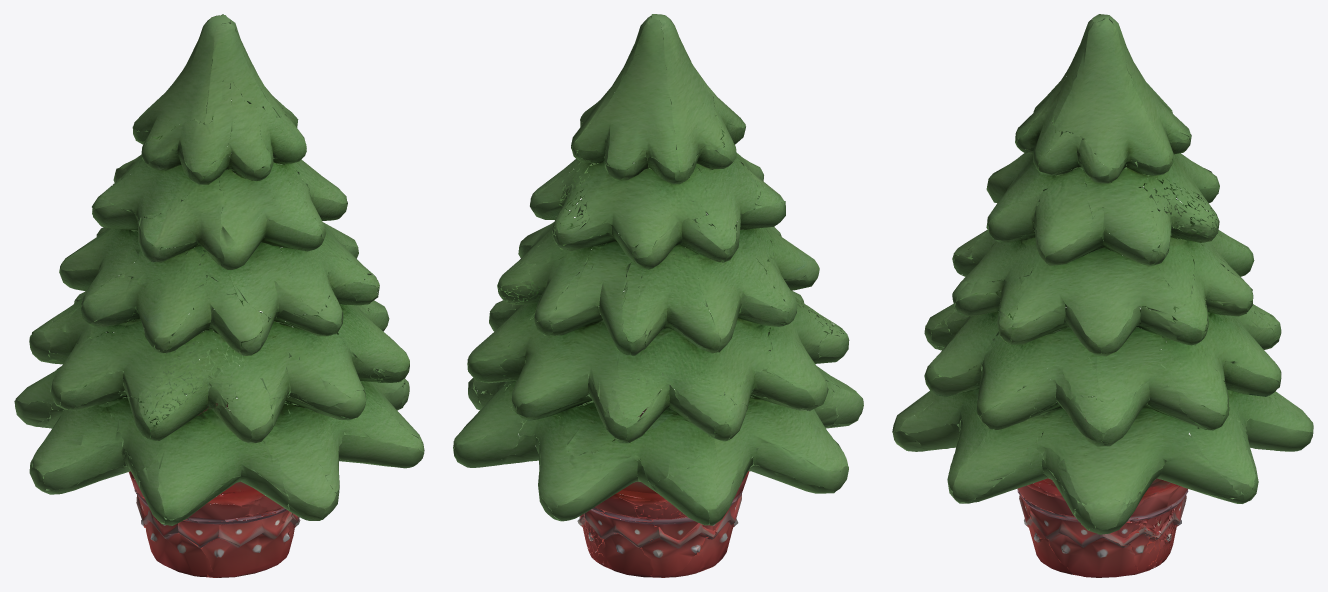
The model's file is ChristmasTree.fbx.
3 renders of one model, left to right at view 1: azimuth 30°, elevation 25°; view 2: azimuth 150°, elevation 25°; view 3: azimuth 270°, elevation 25°, orthographic.
Visible parts, largest first — view 1: ChristmasTree; view 2: ChristmasTree; view 3: ChristmasTree.
Part boxes in pixels (x1,y1,x2,y2): ChristmasTree: (14,14,424,577); ChristmasTree: (453,14,863,577); ChristmasTree: (892,14,1313,577).
Bounding box in the file's own units: 188 × 260 × 185.
Materials: 1 (1 with a texture image).
